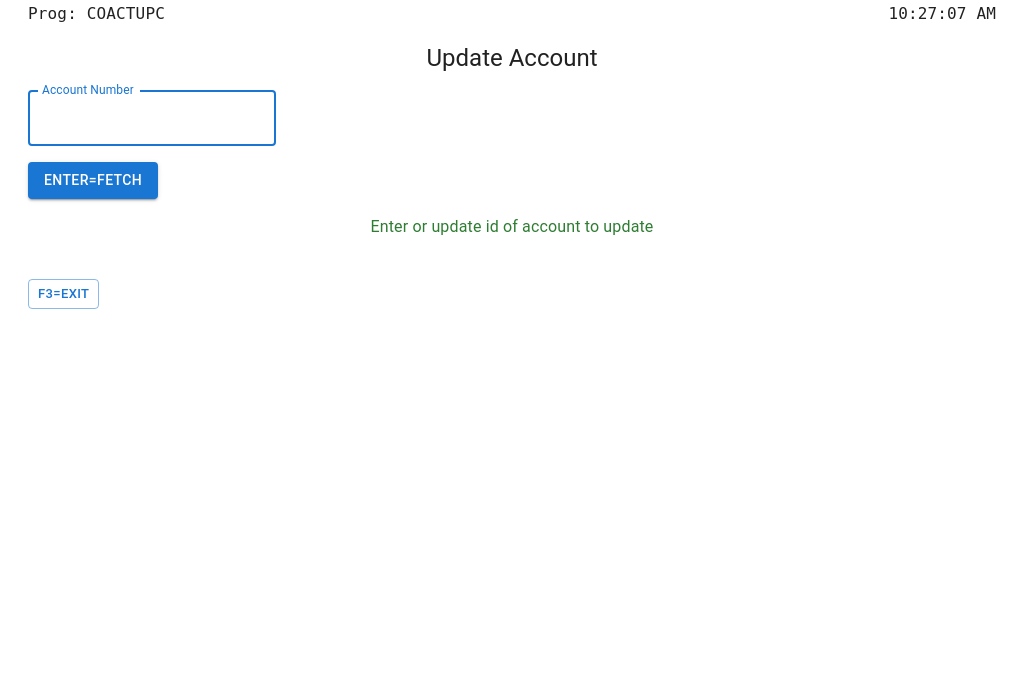
Test: CAUP account update › 2000: F12 keyboard discards edits and reloads the database without saving
This screenshot has width=1024, height=679.
In the field labelled "Account Number": [152, 118] box [28,90,276,146], type "00000000042"
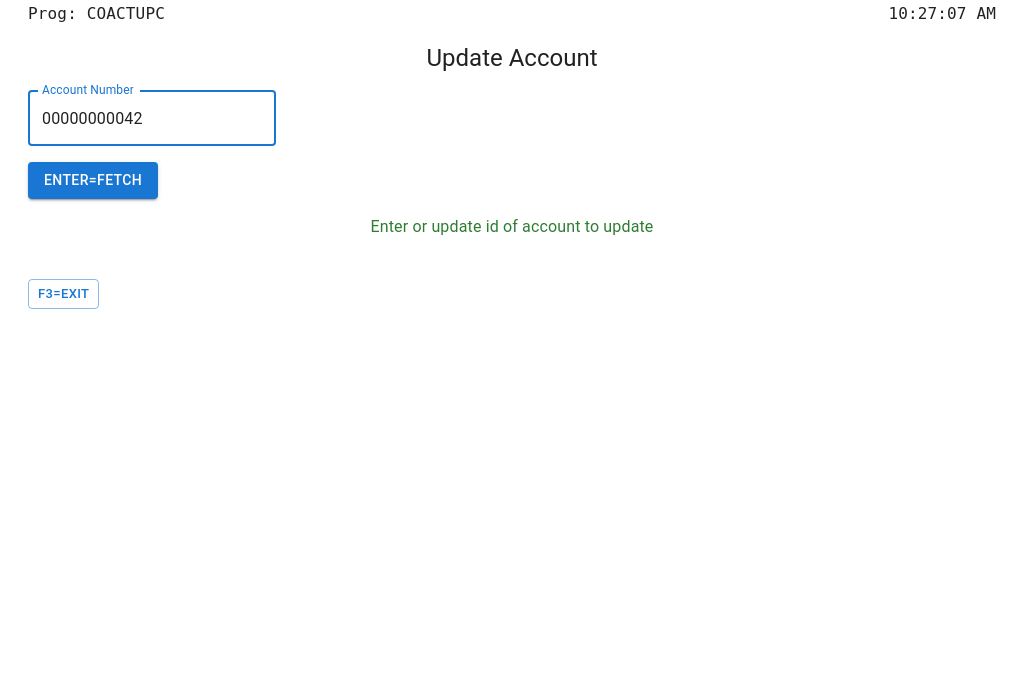
Press Enter in the field labelled "Account Number", box [28,90,276,146]
(page scrolled)
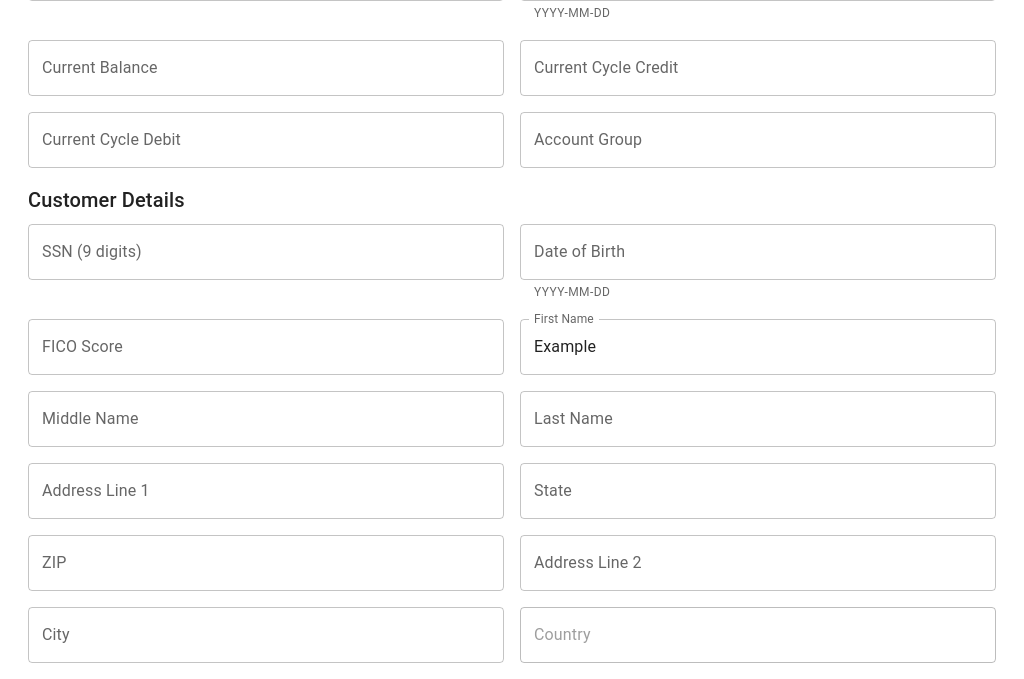
Result: the field labelled "First Name" is shown
Replace the text in the field labelled "First Name" with "Discard": [758, 347] box [520,319,996,375]
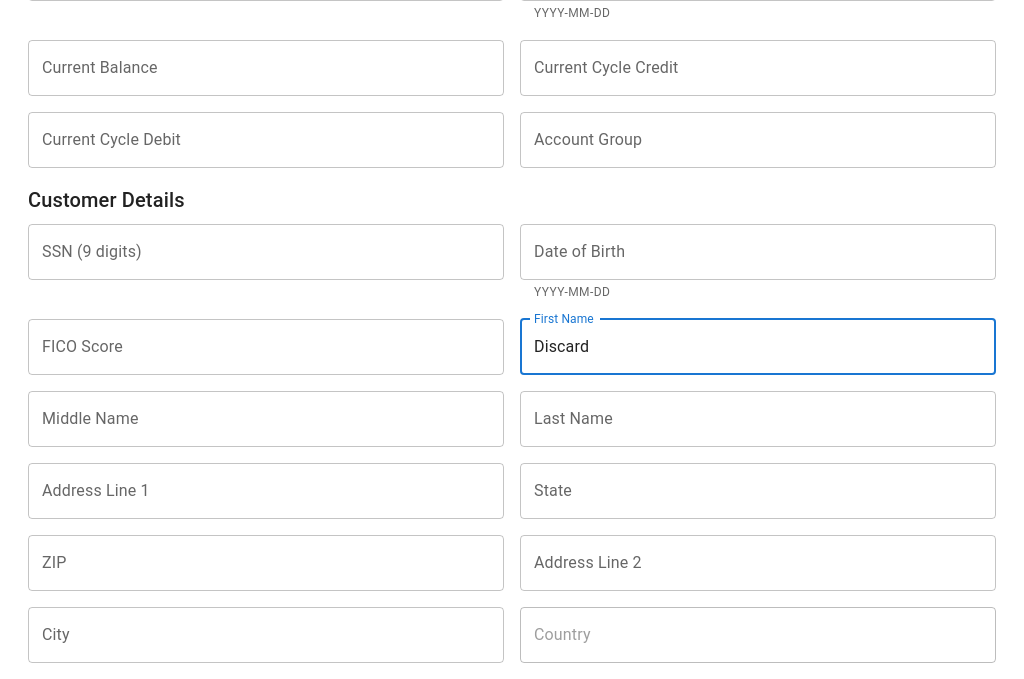
Press F12 in the field labelled "First Name", box [520,319,996,375]
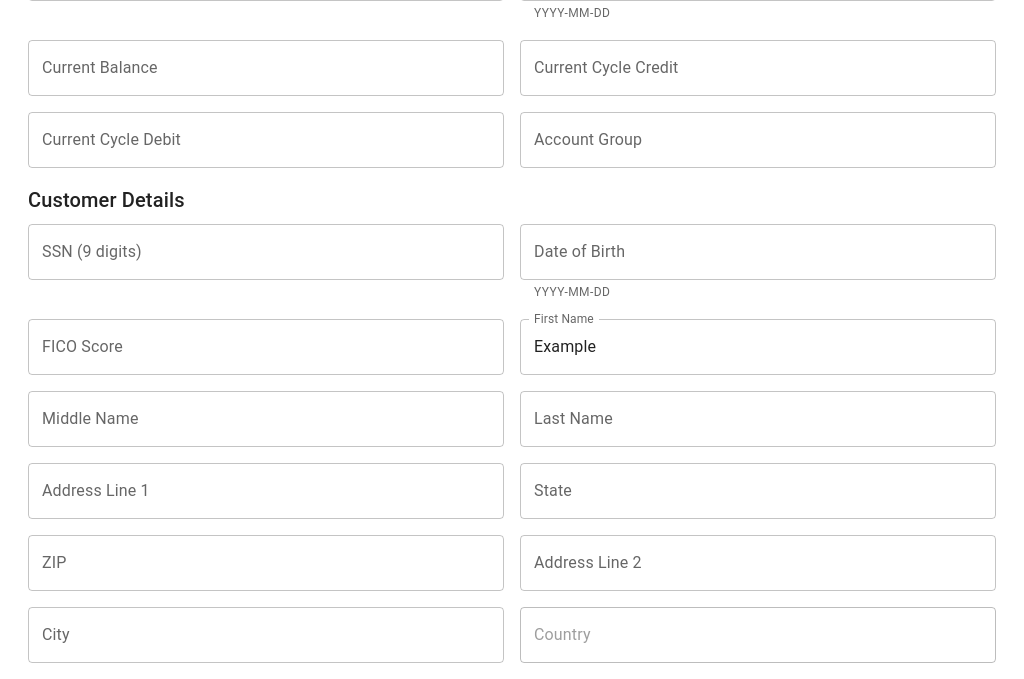
Result: the field showing "Example" is shown at [520,319,996,375]
